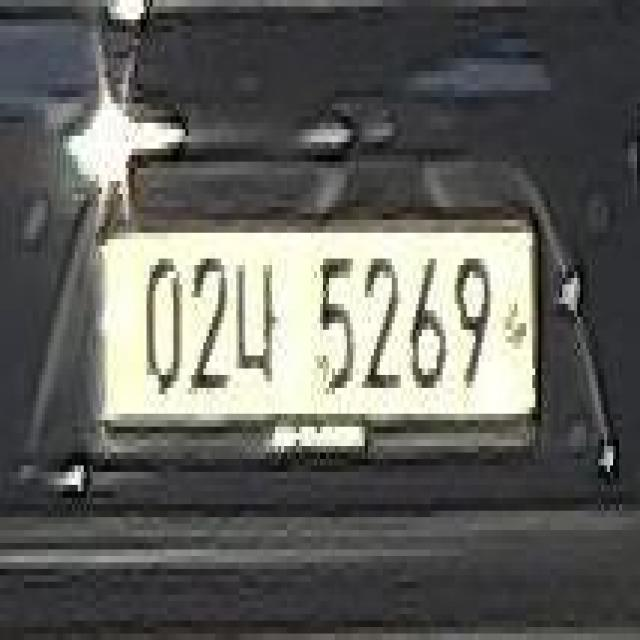illegal_plate: (97, 211, 543, 475)
